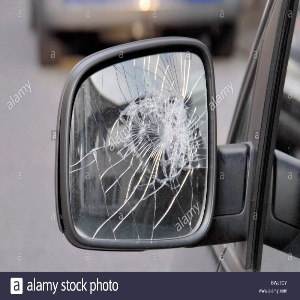side_mirror: (54, 41, 211, 253)
